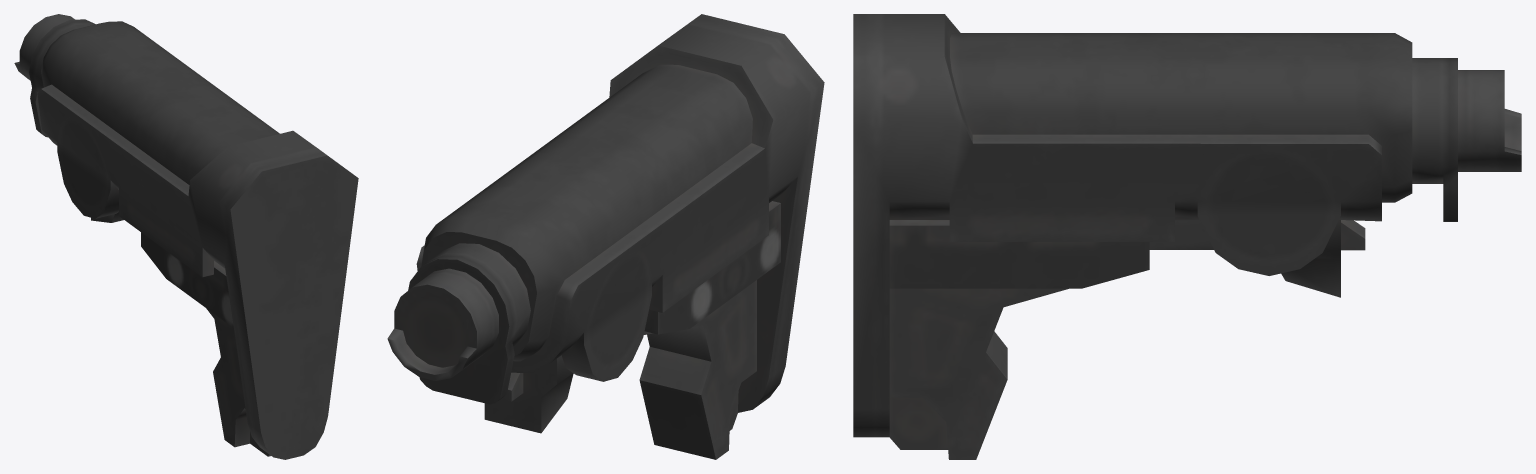
The model's file is IG_Acc_Stock_ALL_SCA_3.fbx.
The picture shows the model from 3 angles, left to right: view 1: azimuth 30°, elevation 25°; view 2: azimuth 150°, elevation 25°; view 3: azimuth 270°, elevation 25°; orthographic projection. The views are drawn at different scales.
Parts seen in each view (by area): view 1: Stock_ALL_SCA_3; view 2: Stock_ALL_SCA_3; view 3: Stock_ALL_SCA_3.
Part boxes in pixels (x1,y1,x2,y2): Stock_ALL_SCA_3: [14, 14, 358, 459]; Stock_ALL_SCA_3: [387, 14, 824, 459]; Stock_ALL_SCA_3: [853, 14, 1521, 459].
Size of the model in its own units: 0.1046 by 0.237 by 0.3512.
Materials: 1 (1 with a texture image).
